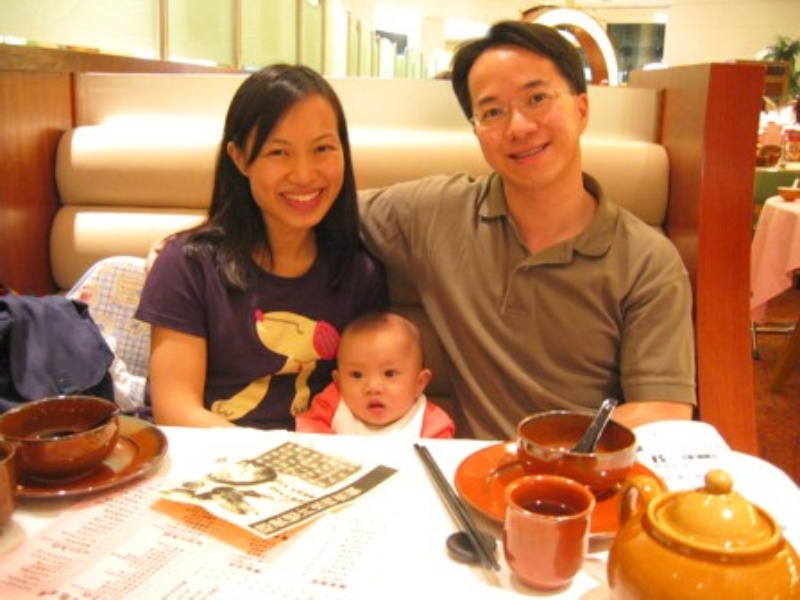person: (356, 22, 697, 439), (133, 64, 388, 427), (295, 311, 455, 437)
